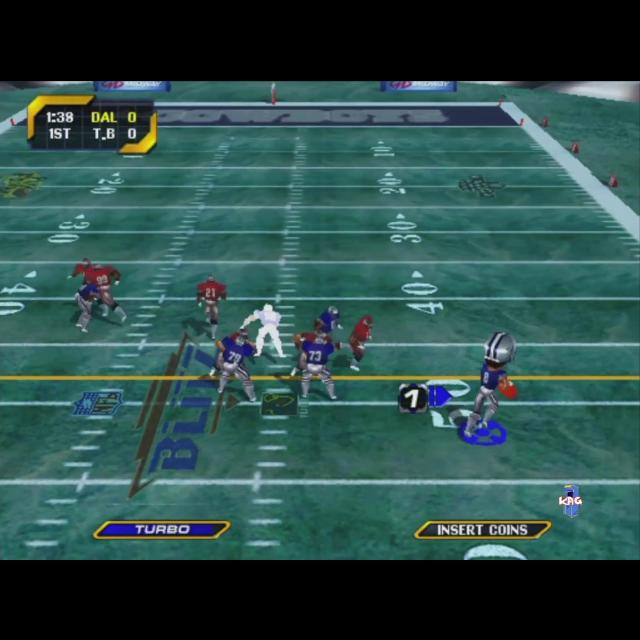player: (464, 330, 518, 438), (208, 328, 258, 402), (296, 330, 342, 400), (84, 262, 126, 322), (240, 303, 286, 357), (196, 274, 227, 338), (292, 329, 328, 375), (347, 314, 373, 371), (75, 277, 102, 331), (314, 304, 344, 336), (69, 256, 95, 282)
